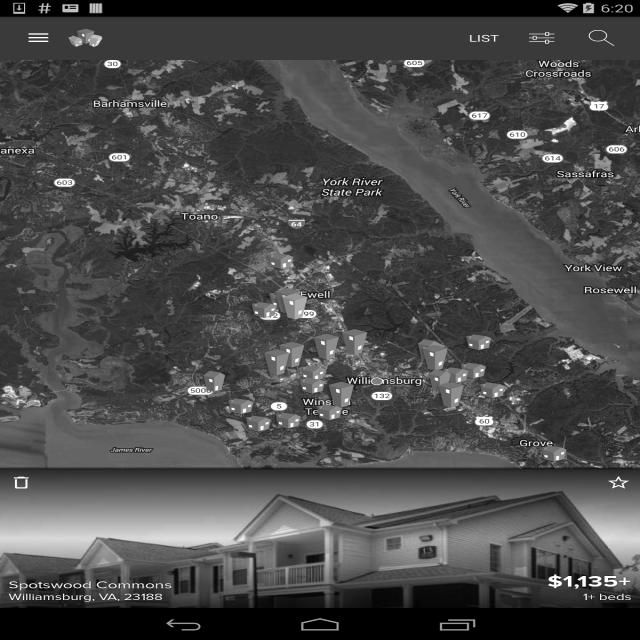Button: (496, 574, 624, 604)
ImageButton: (9, 17, 68, 59), (9, 480, 51, 507), (9, 523, 51, 549), (9, 474, 34, 490), (606, 474, 631, 490)
ImageView: (0, 469, 640, 608), (5, 553, 70, 567), (68, 27, 102, 49)
TextView: (9, 578, 544, 592), (512, 22, 572, 54), (572, 22, 631, 54), (16, 591, 187, 602), (9, 591, 163, 603), (456, 22, 512, 54), (562, 572, 632, 591), (583, 591, 631, 603), (16, 577, 67, 588), (544, 572, 563, 591)
